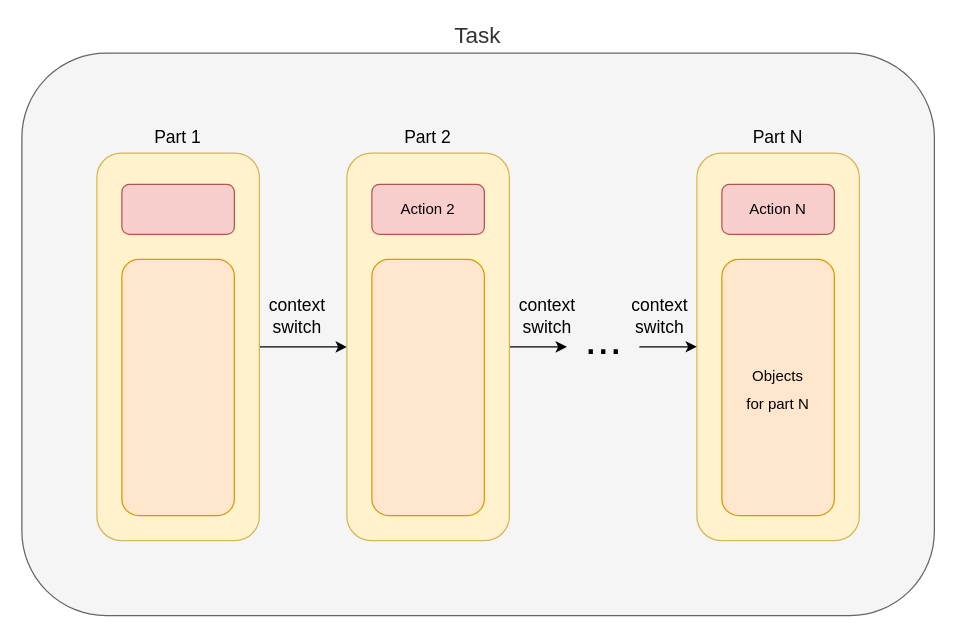
Image size: 956x638. Some labels were removed from this diagram. The centre of each missing label's shape, as x and y in pixels:
"Action 1" goes at pixel 177 208.
"Objects for part 1" goes at pixel 177 387.
"Objects for part 2" goes at pixel 427 387.
